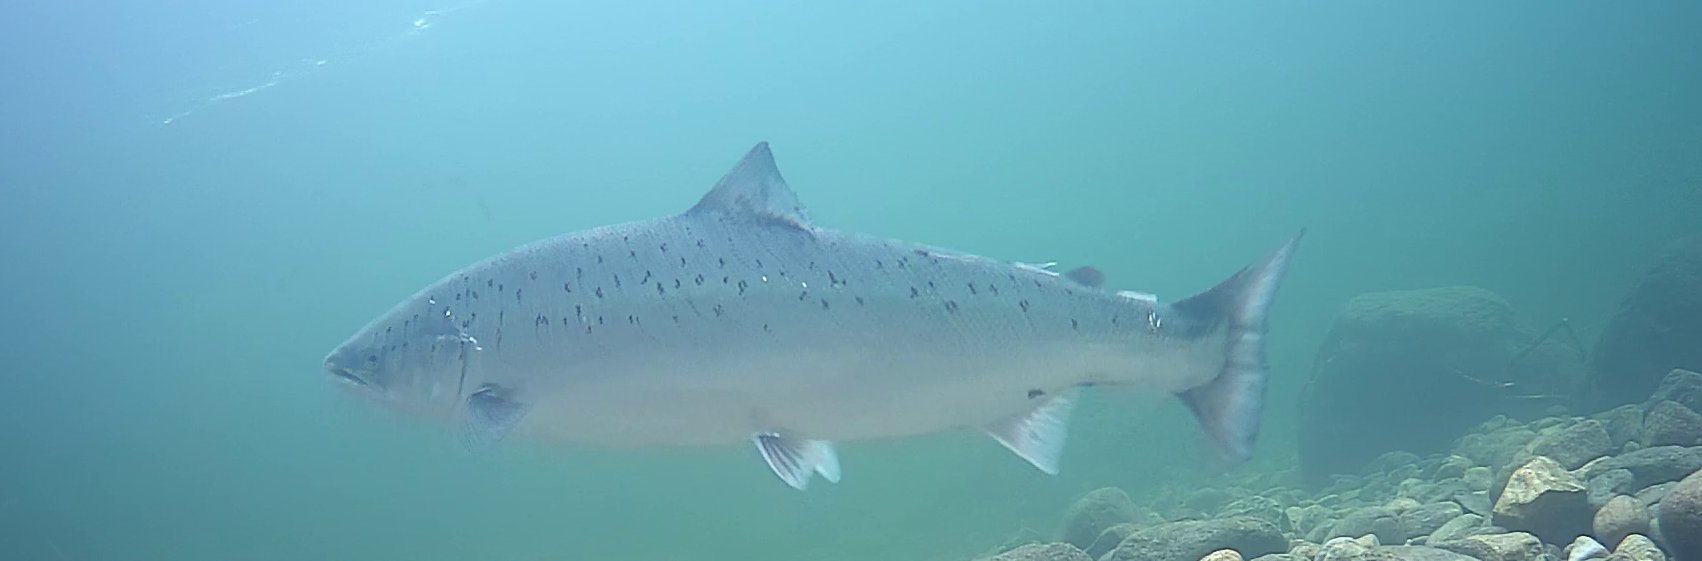salmon: (317, 137, 1306, 495)
